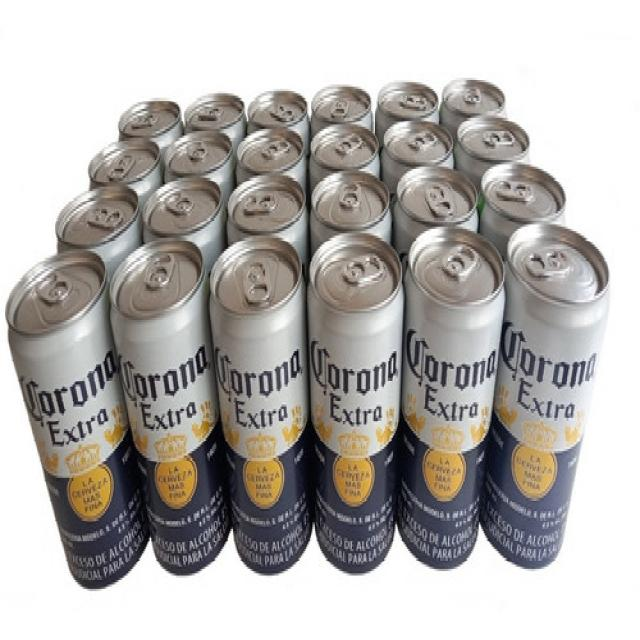Lata: (207, 166, 405, 571), (3, 255, 147, 586), (108, 250, 230, 580), (491, 229, 603, 566), (403, 229, 502, 566)
